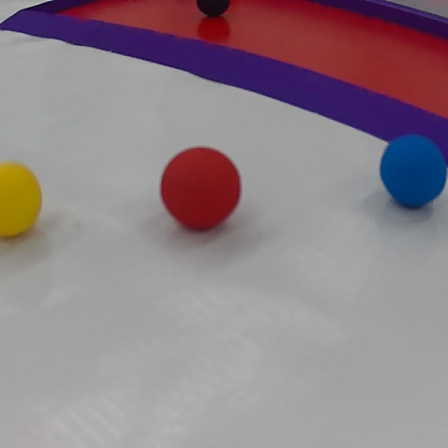black: (184, 0, 234, 23)
blue: (378, 133, 448, 208)
red: (154, 142, 247, 234)
red_aim: (2, 4, 448, 169)
yellow: (1, 158, 47, 242)
